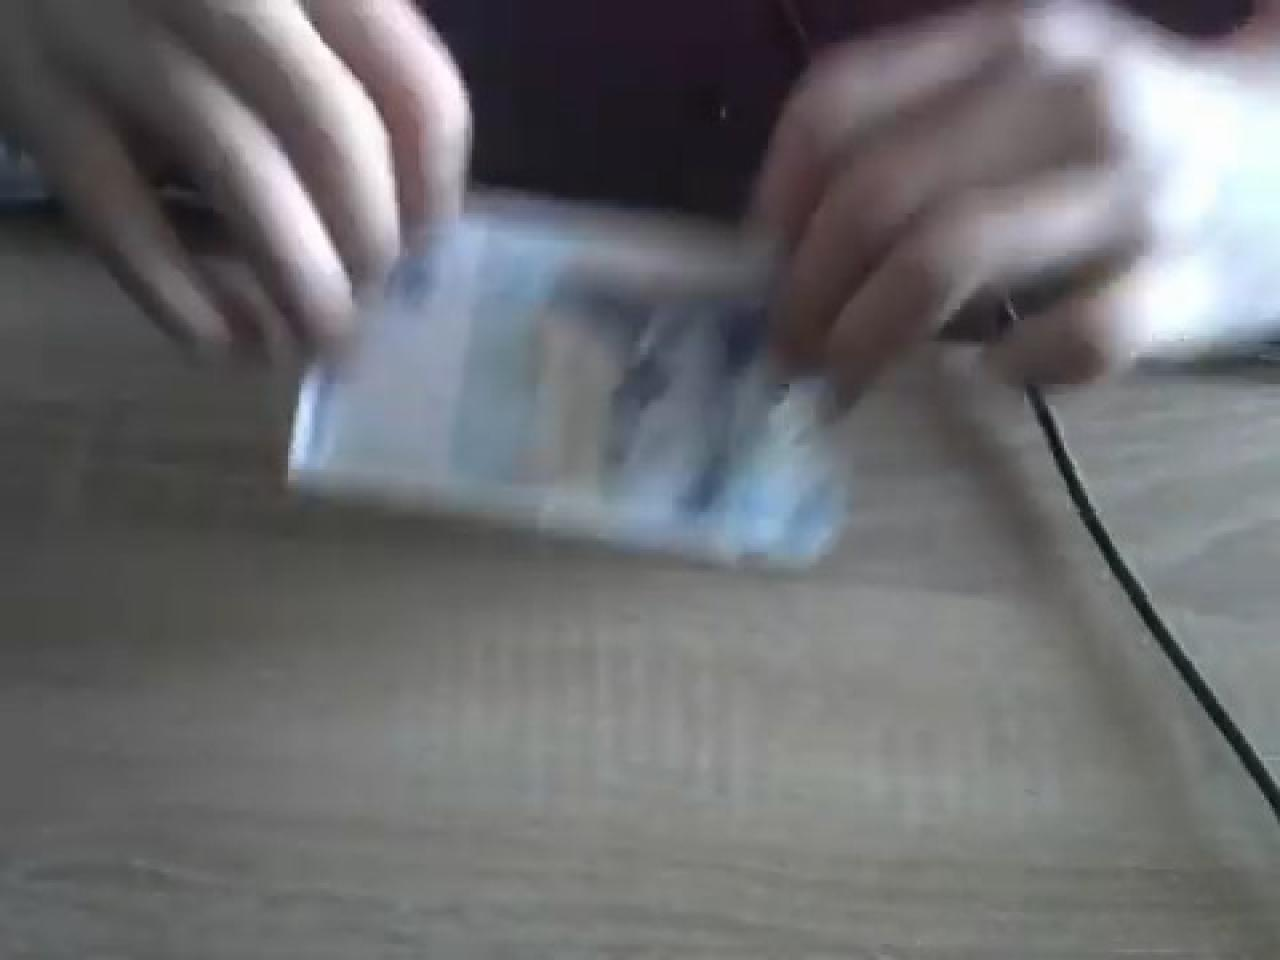20leva: (277, 184, 856, 573)
